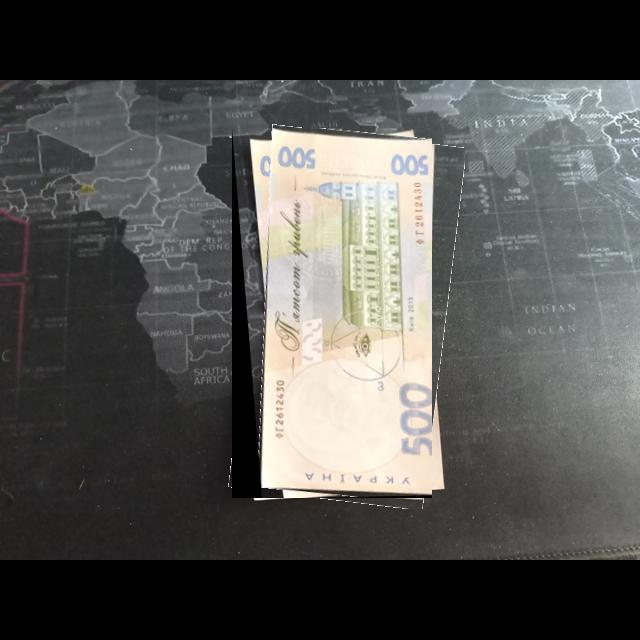500uah: (256, 128, 433, 496)
